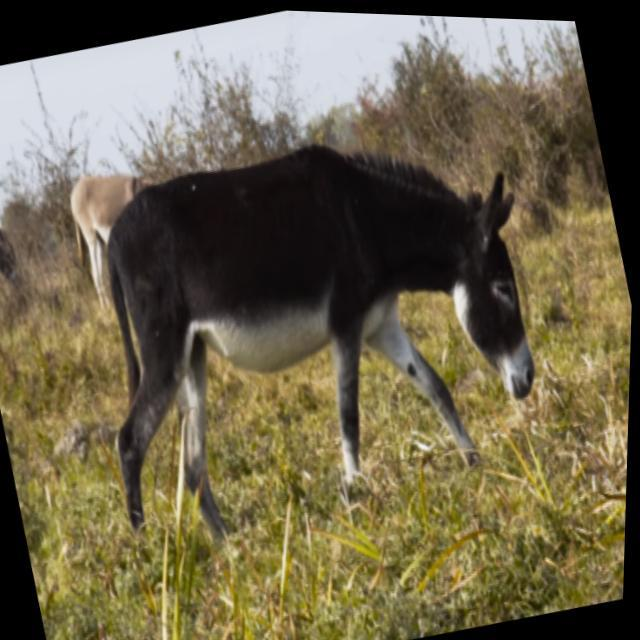Donkey: (57, 91, 582, 568), (60, 156, 188, 318), (0, 209, 31, 312)
